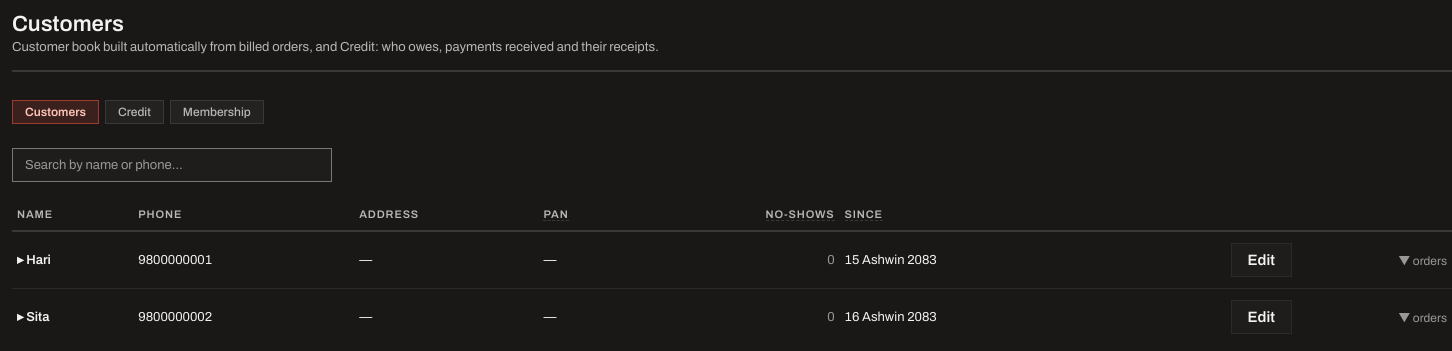
Test case: Customer search (S842) › a narrowed list says how much of the book it shows
This screenshot has width=1452, height=351.
Expected: the text "Sita" is shown, [26,310,49,324]
Expected: the text "Showing " is not shown
Type "sita" into the field named "Search customers" at (172, 165), box [12,148,332,182]
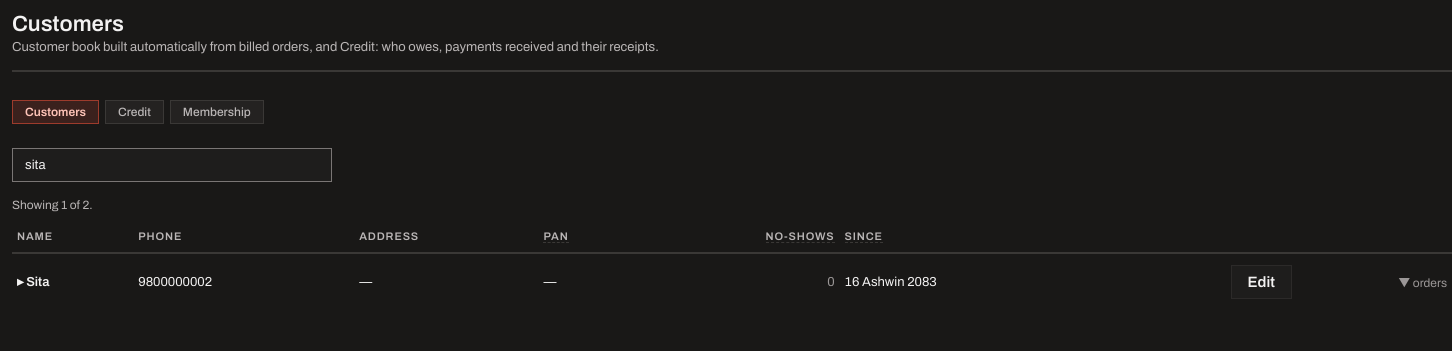
Expected: the text "Showing 1 of 2." is shown, [12,198,93,212]
Expected: the text "Hari" is gone
Replace the text in the field named "Search customers" with "nobody" at (172, 165), box [12,148,332,182]
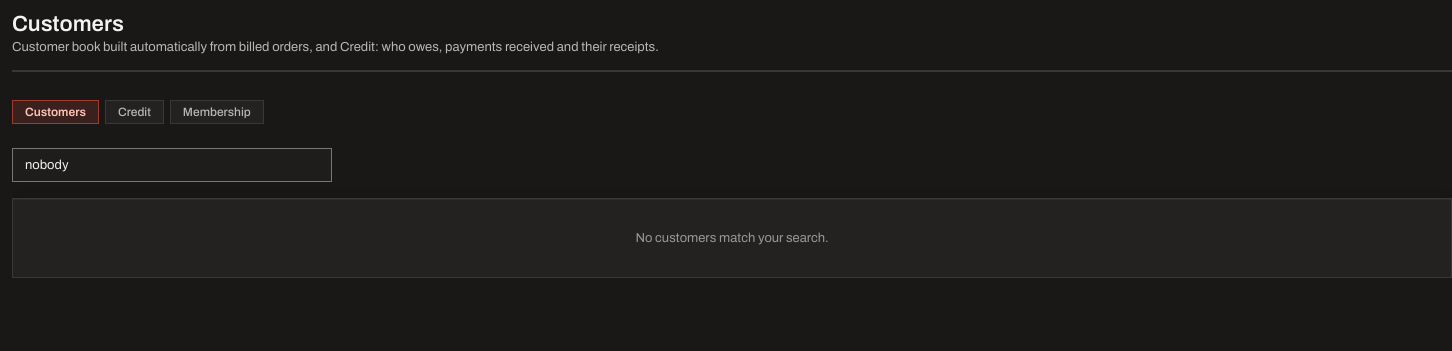
Expected: the text "No customers match your search." is shown, [12,198,1451,278]
